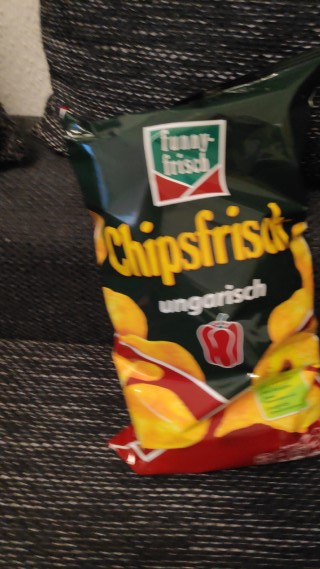chipsfrisch: (54, 53, 320, 477)
